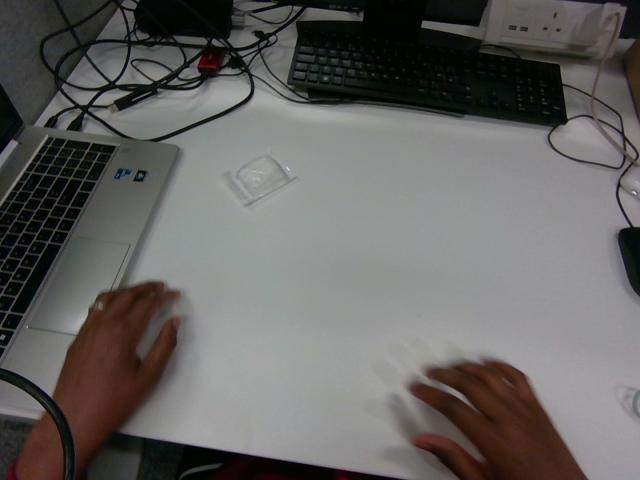gauze: (223, 155, 296, 206)
